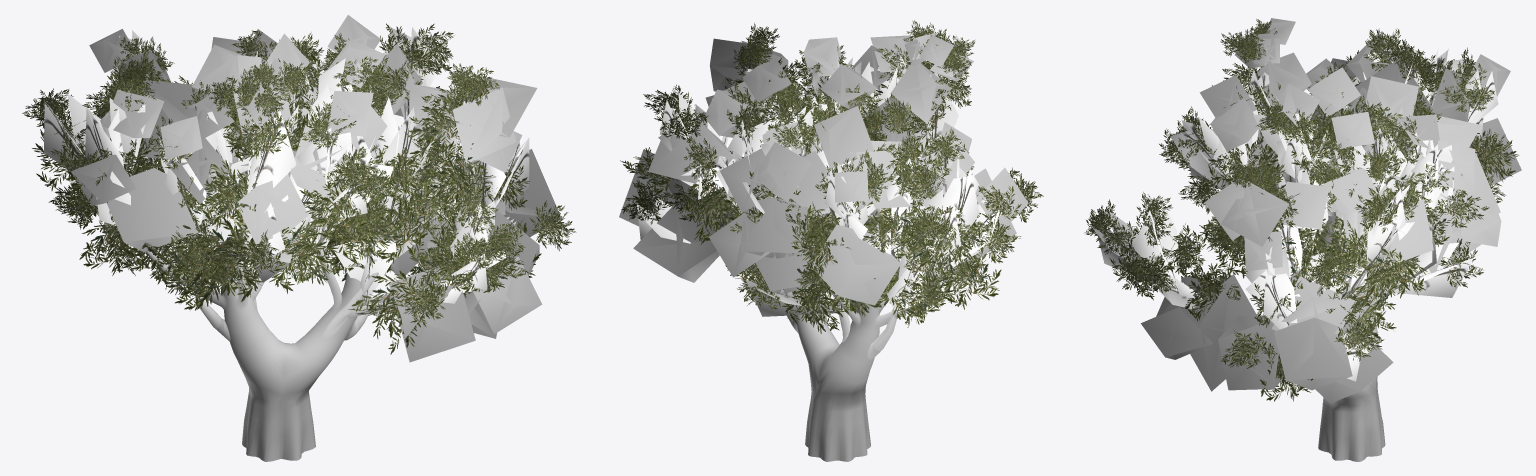
File: Type_2_1.fbx
3 views of the same model, side by side, from view 1: azimuth 30°, elevation 25°; view 2: azimuth 150°, elevation 25°; view 3: azimuth 270°, elevation 25° (orthographic). The views are drawn at different scales.
Visible parts, largest first — view 1: Type_2_1; view 2: Type_2_1; view 3: Type_2_1.
Part boxes in pixels (<box>): Type_2_1: <box>22,15,576,461</box>; Type_2_1: <box>619,20,1043,461</box>; Type_2_1: <box>1084,18,1521,461</box>.
Size of the model in its own units: 13.35 by 12.03 by 12.15.
